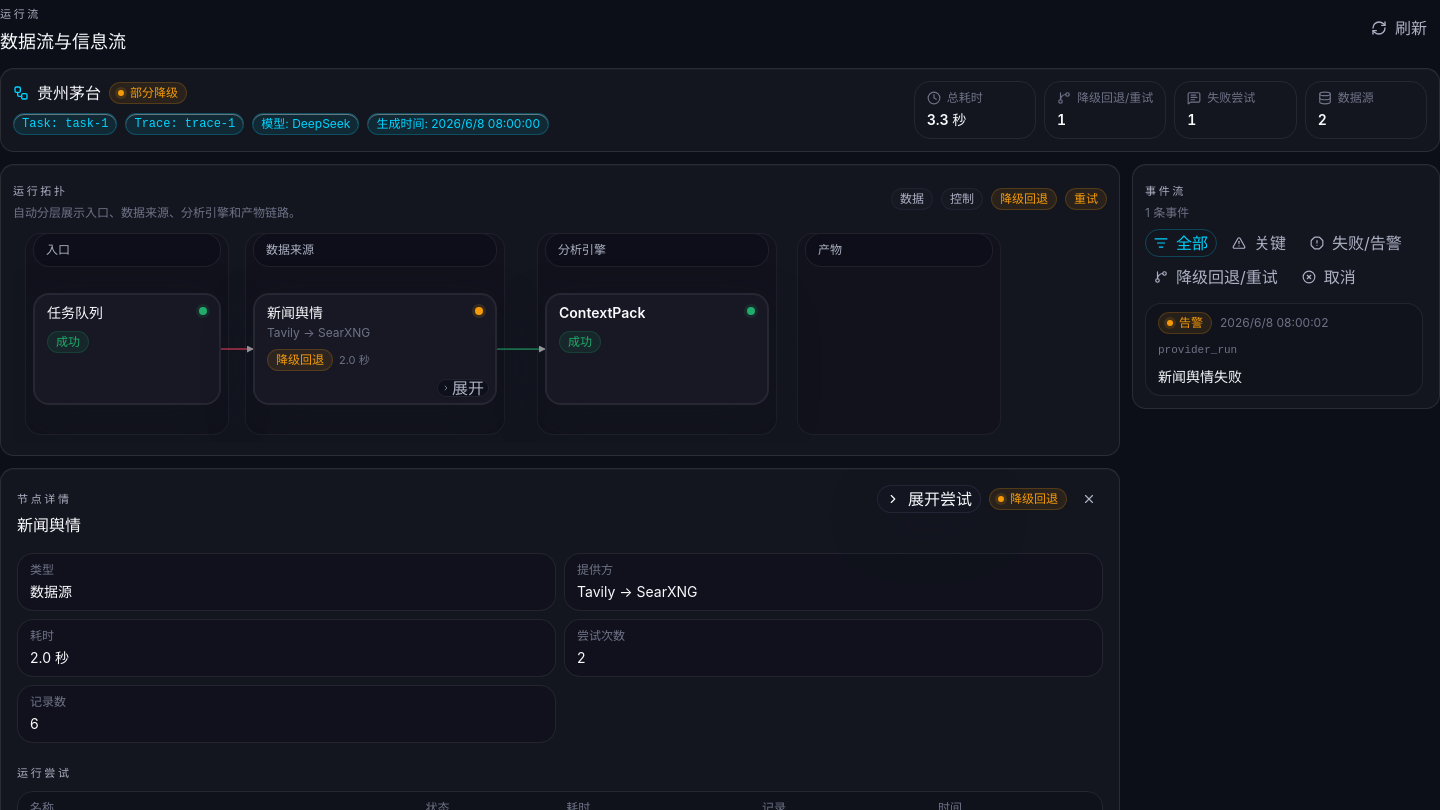
Test: RunFlowPanel › expands provider attempt groups from node details
Expected: the button with test id "run-flow-node-topology_data_news_search" is shown, [253,293,497,405]
Expected: the element with test id "run-flow-node-details" shows "运行尝试", [17,766,72,780]
Click the button "展开尝试" at (929, 499), box [877,485,981,513]
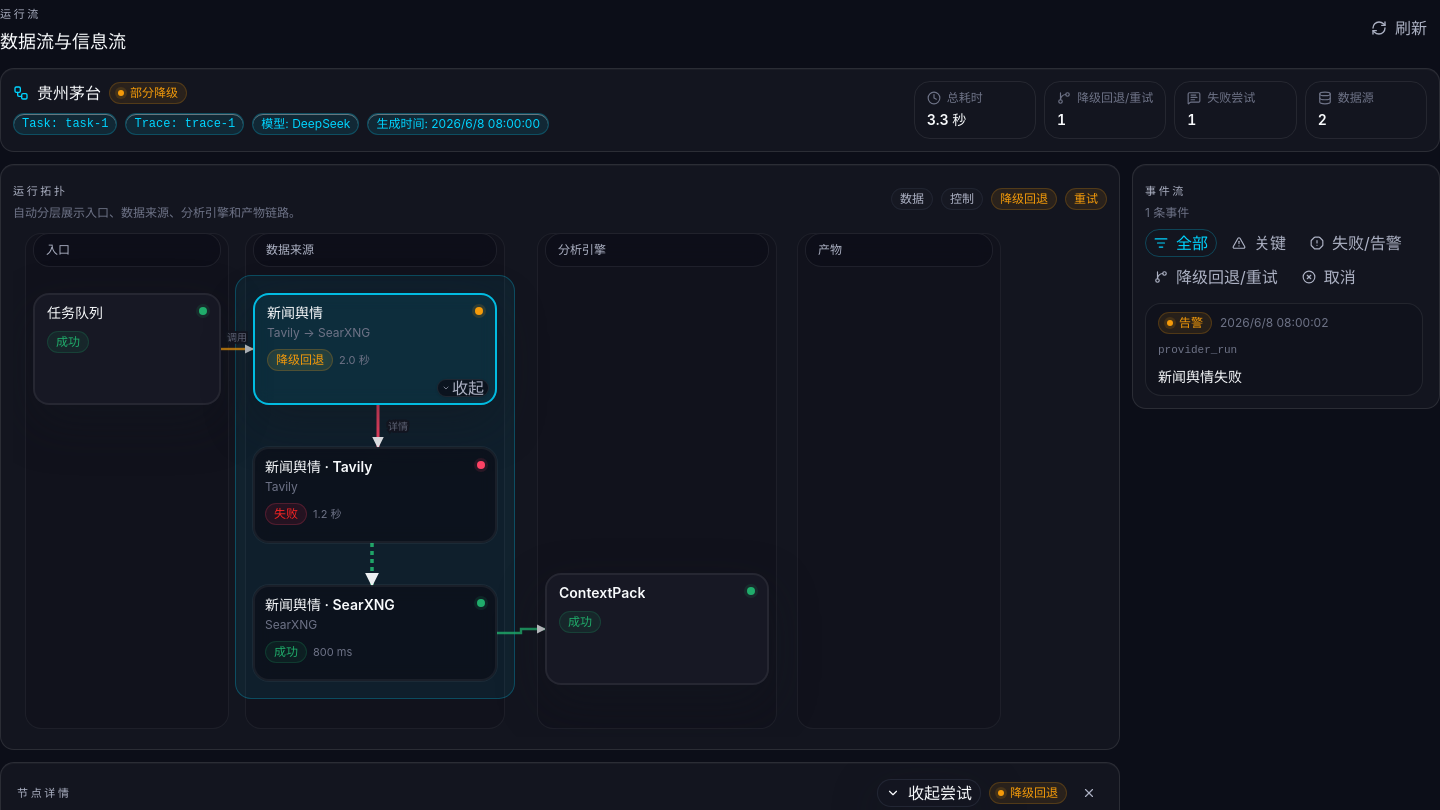
Expected: the button with test id "run-flow-node-provider_news_search_tavily_1" is shown, [253,447,497,543]
Expected: the button "收起尝试" is shown, [877,779,981,807]
